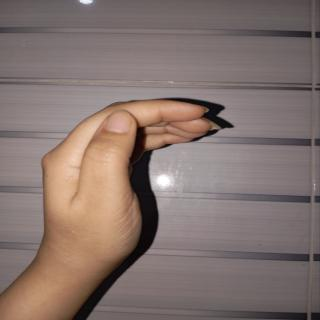HAA: (22, 91, 245, 268)
